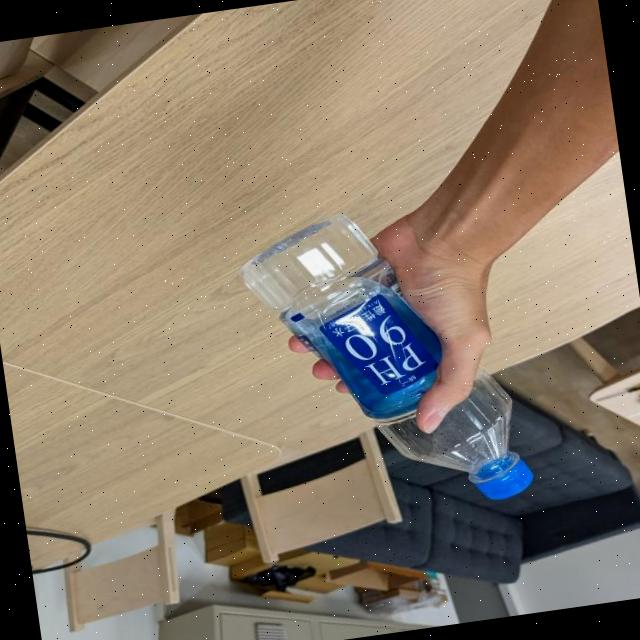bottle: (229, 192, 542, 536)
cap: (455, 448, 540, 505)
label: (272, 275, 466, 433)
